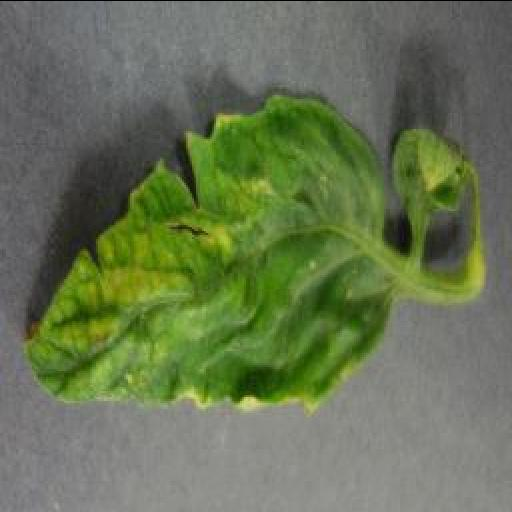disease_tomato: (24, 90, 390, 412)
